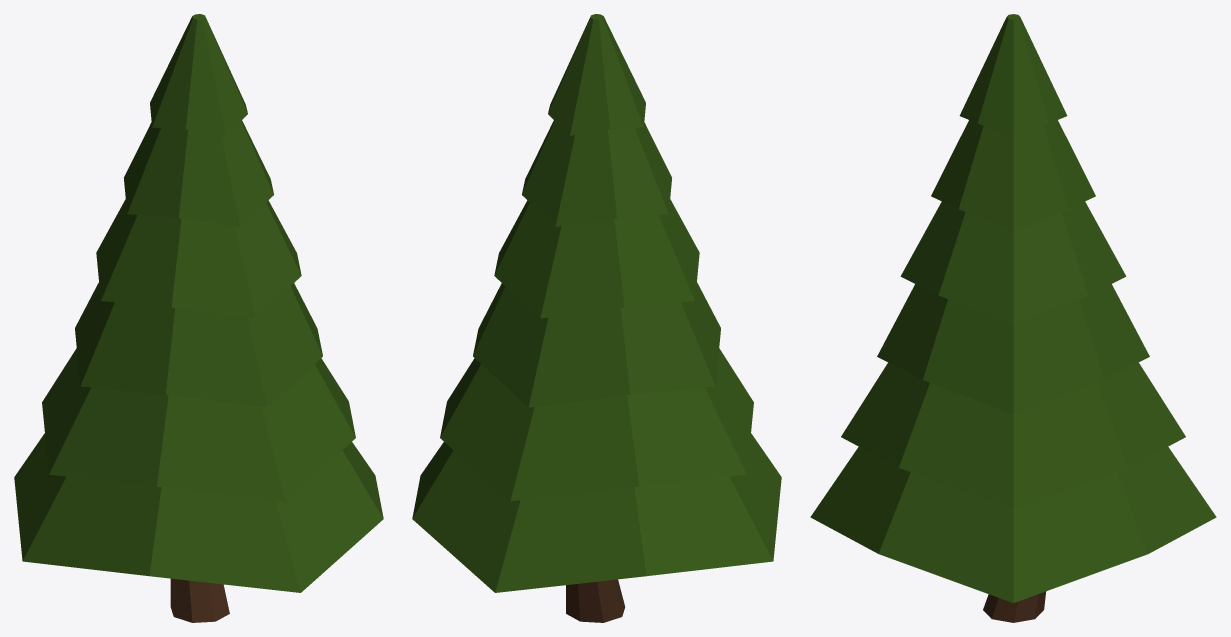
File: PineTreeModel.fbx
3 renders of one model, left to right at view 1: azimuth 30°, elevation 25°; view 2: azimuth 150°, elevation 25°; view 3: azimuth 270°, elevation 25°, orthographic.
Visible parts, largest first — view 1: Cylinder; view 2: Cylinder; view 3: Cylinder.
Boxes of the visible parts, left/top/right/bottom form: Cylinder: left=14, top=14, right=383, bottom=622; Cylinder: left=412, top=14, right=781, bottom=622; Cylinder: left=810, top=14, right=1216, bottom=622.
Size of the model in its own units: 1741 by 2800 by 1741.
